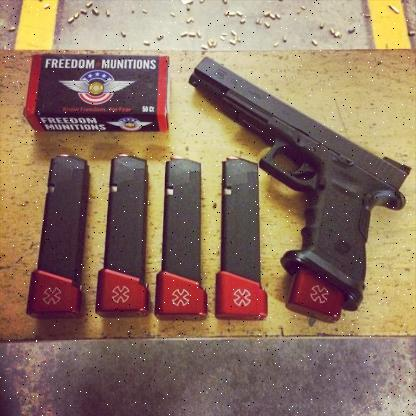gun: (187, 56, 413, 324)
